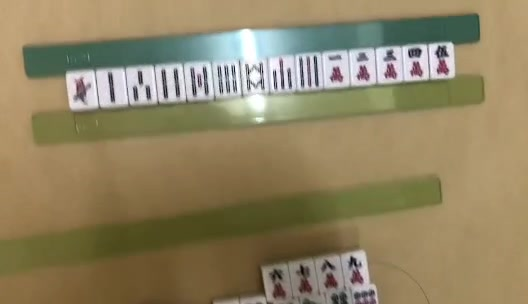1m: (328, 54, 345, 85)
1s: (73, 73, 95, 104)
2m: (354, 50, 371, 83)
2s: (107, 70, 118, 104)
3m: (383, 48, 398, 80)
3s: (133, 69, 154, 101)
4m: (406, 46, 424, 77)
4s: (161, 68, 181, 100)
5m: (434, 44, 452, 77)
5s: (188, 64, 209, 96)
6s: (217, 62, 239, 94)
7s: (272, 56, 292, 88)
8s: (243, 62, 267, 90)
9s: (297, 55, 320, 89)
